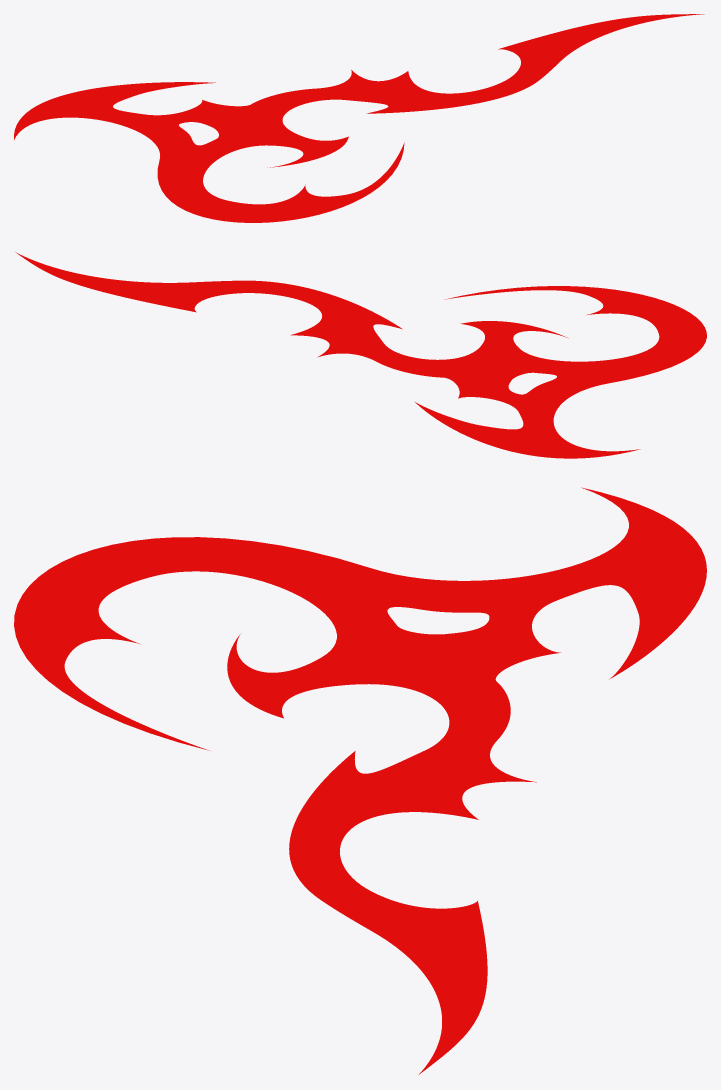
Rendered from Rgilism.glb.
3 views of the same model, one above another, from view 1: azimuth 30°, elevation 25°; view 2: azimuth 150°, elevation 25°; view 3: azimuth 270°, elevation 25° (orthographic). The views are drawn at different scales.
Parts seen in each view (by area): view 1: Curve.002; view 2: Curve.002; view 3: Curve.002.
Boxes of the visible parts, x1=… form: Curve.002: x1=14, y1=14, x2=704, y2=222; Curve.002: x1=15, y1=252, x2=706, y2=458; Curve.002: x1=14, y1=487, x2=706, y2=1074.
Size of the model in its own units: 0.1674 by 0 by 0.0833.
